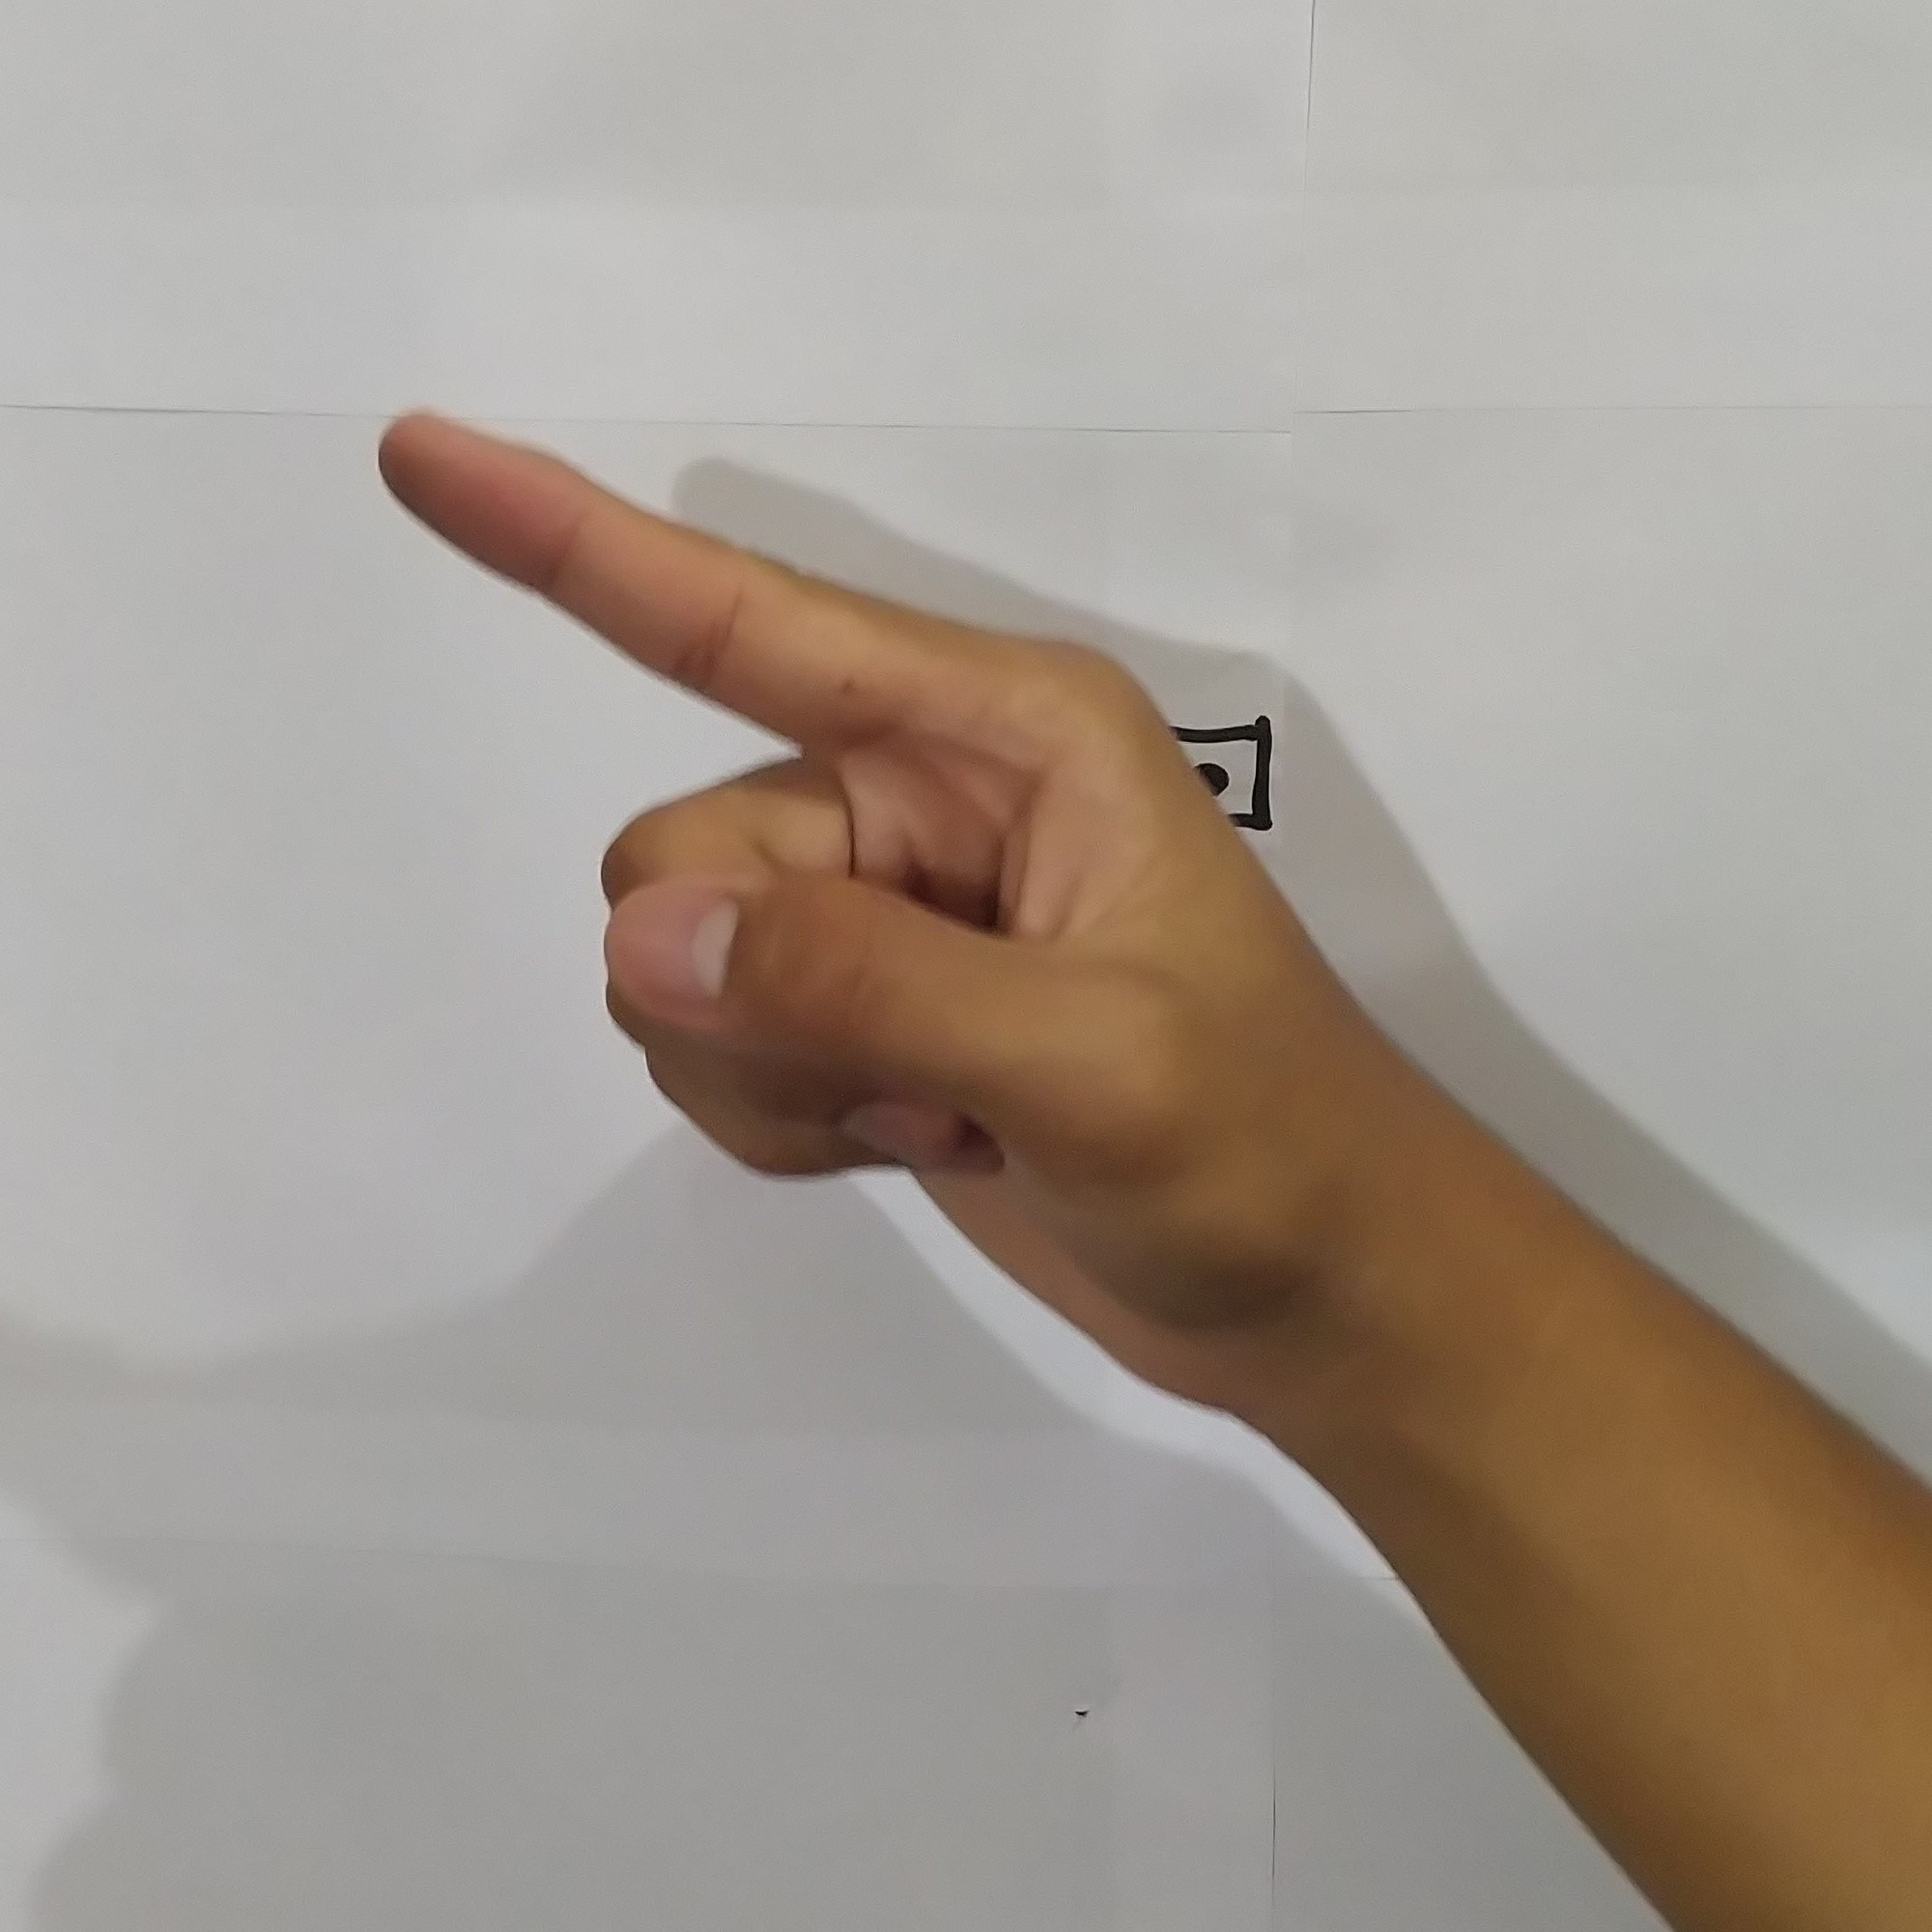Z: (364, 393, 1456, 1410)
